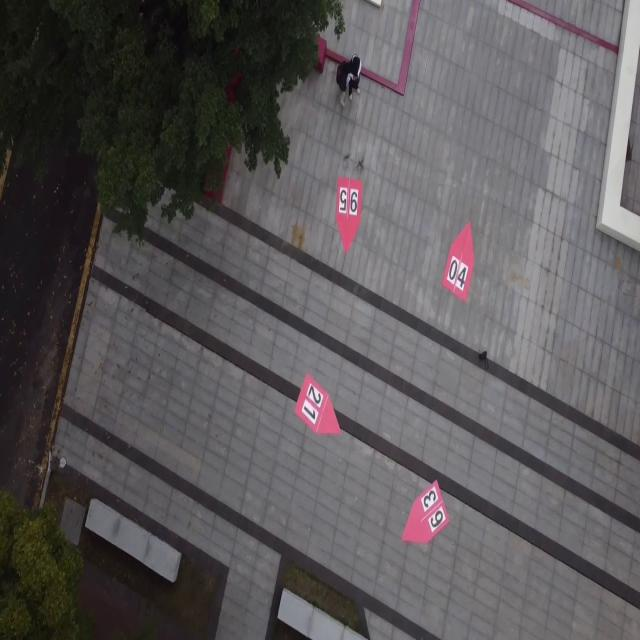-sign-: (401, 481, 450, 546), (294, 373, 341, 438), (442, 222, 476, 304), (335, 174, 363, 255)
